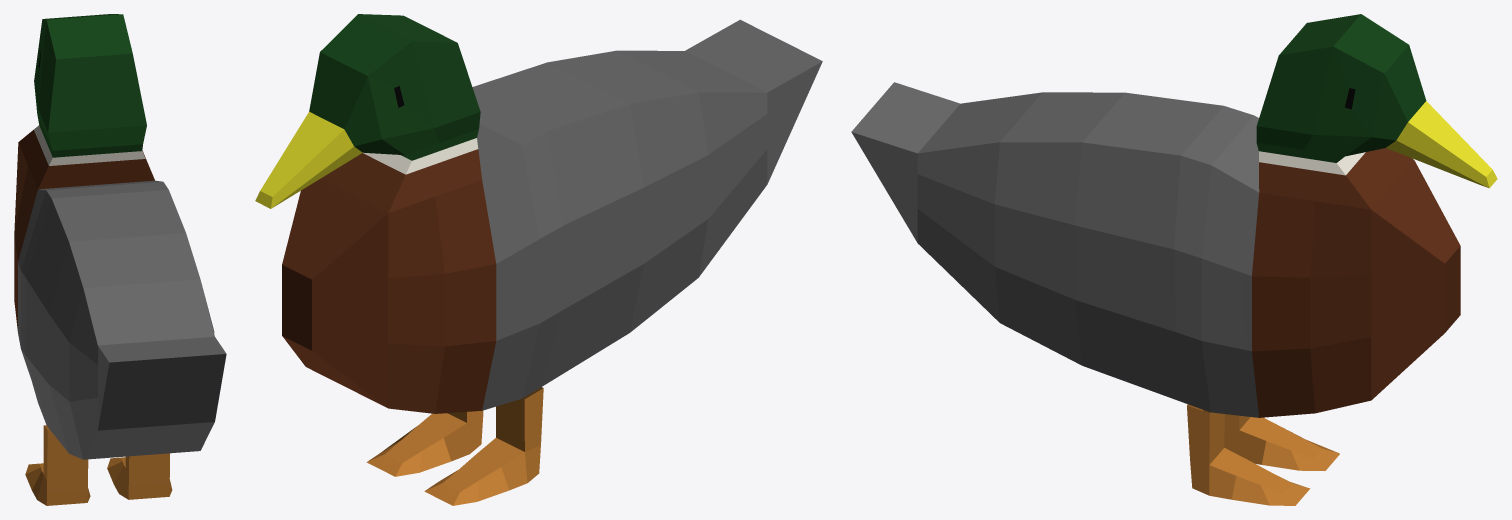
Rendered from DuckMallard.fbx.
The picture shows the model from 3 angles, left to right: view 1: azimuth 30°, elevation 25°; view 2: azimuth 150°, elevation 25°; view 3: azimuth 270°, elevation 25°; orthographic projection. The views are drawn at different scales.
Parts seen in each view (by area): view 1: Cube.002; view 2: Cube.002; view 3: Cube.002.
Boxes of the visible parts, <box> form: Cube.002: <box>14,14,226,505</box>; Cube.002: <box>255,14,822,505</box>; Cube.002: <box>851,14,1497,505</box>.
Bounding box in the file's own units: 123 × 200 × 259.
